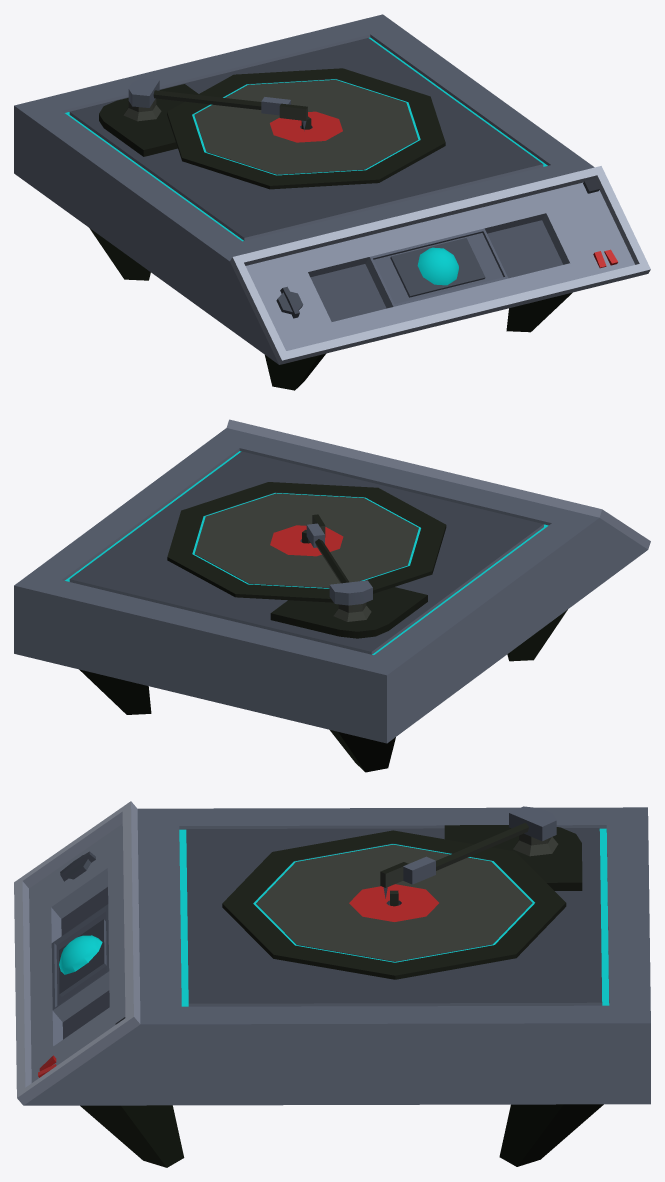
The model's file is Record_Player.glb.
The picture shows the model from 3 angles, top to bottom: view 1: azimuth 30°, elevation 25°; view 2: azimuth 150°, elevation 25°; view 3: azimuth 270°, elevation 25°; orthographic projection. The views are drawn at different scales.
Visible parts, largest first — view 1: Tocadiscos; view 2: Tocadiscos; view 3: Tocadiscos.
Boxes of the visible parts, bbox=[...] form: Tocadiscos: bbox=[14, 14, 650, 390]; Tocadiscos: bbox=[14, 419, 650, 772]; Tocadiscos: bbox=[14, 801, 650, 1167].
Size of what is drawn, in the model's own units: 0.5917 by 0.2743 by 0.733.
Materials: 1 (1 with a texture image).
